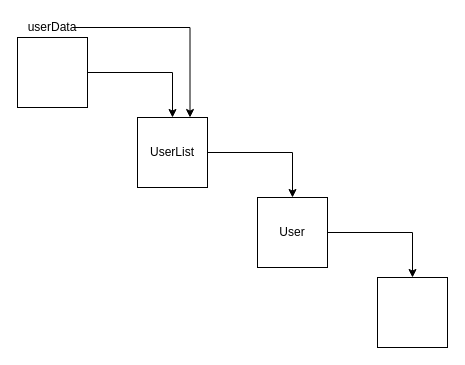
The diagram is 465 pixels wide and 365 high, and some of its shapes have lost their labels. Here are the shapes that lost their labels. From the top down, the centre of each, then its label:
pixel 52 72: App
pixel 412 312: UserDetails
